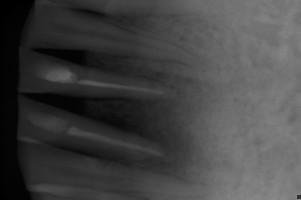Dental Caries: (82, 98, 196, 174)
